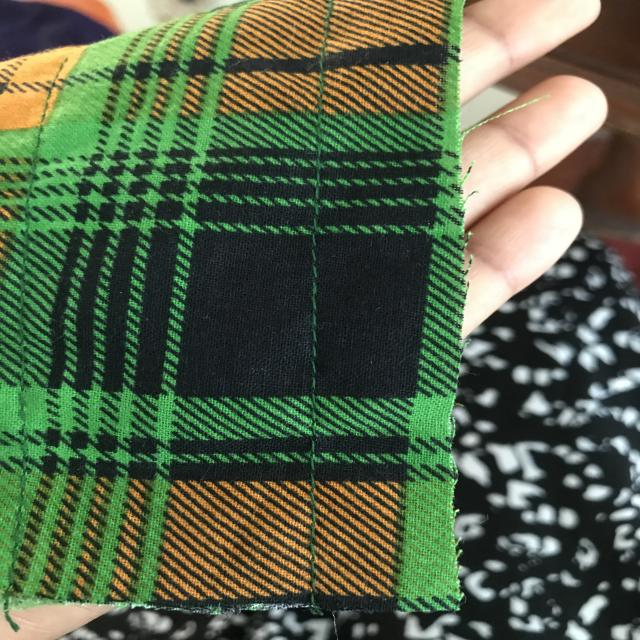good: (284, 284, 348, 376)
